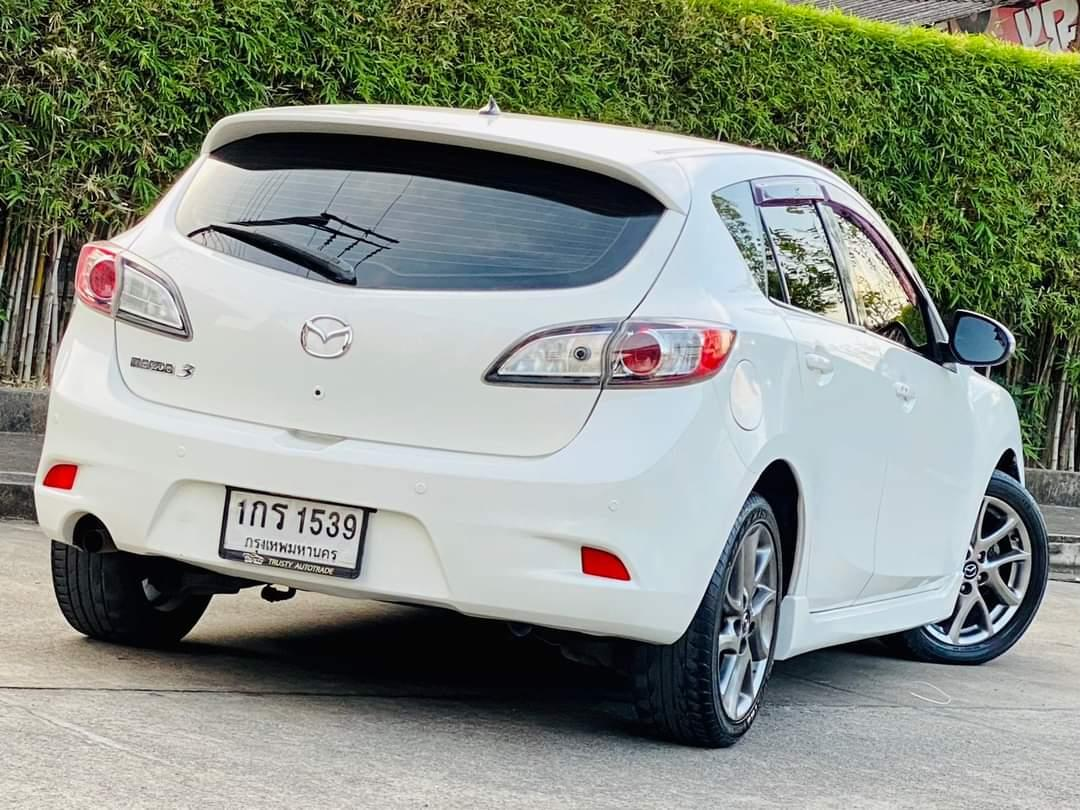license-plate: (217, 475, 371, 581)
